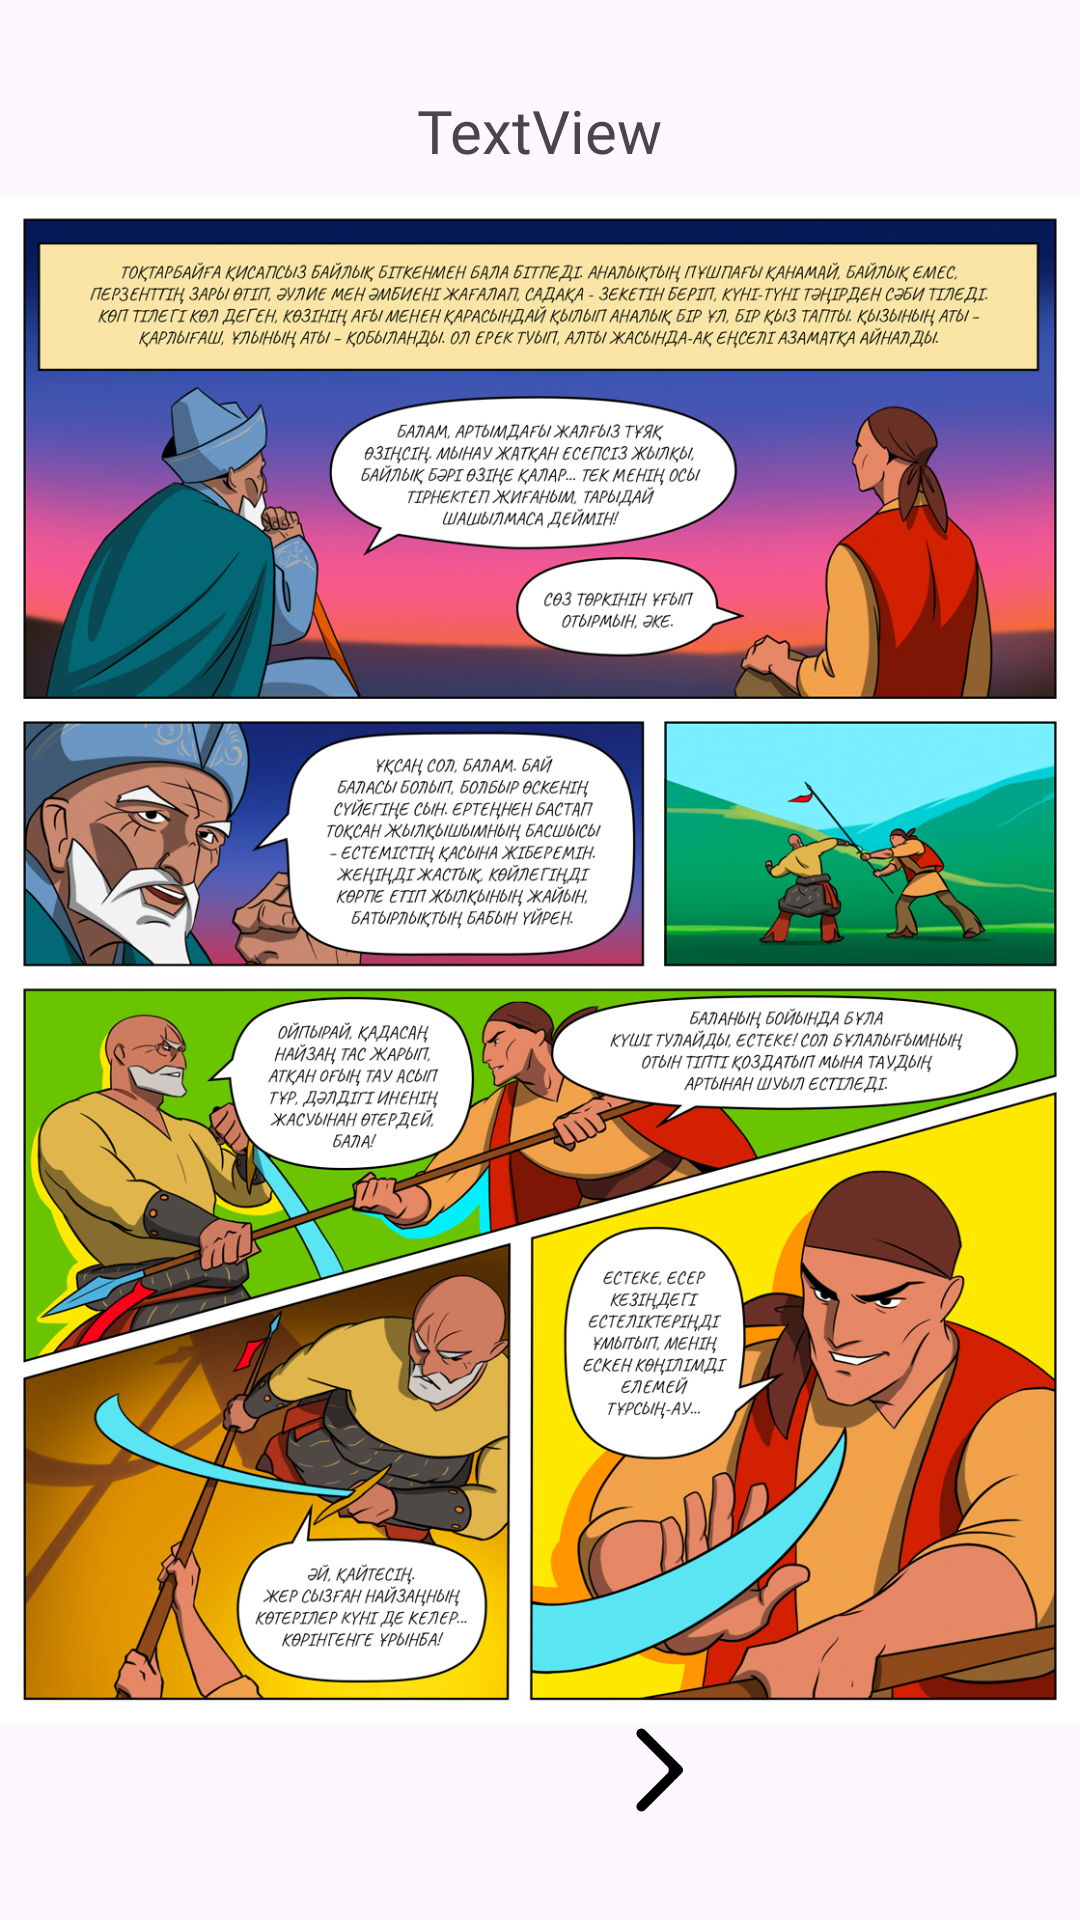

Where to tap for icons on this 1080 x 1920 app screen, as (x=x, y=y):
next: (x=659, y=1770)
